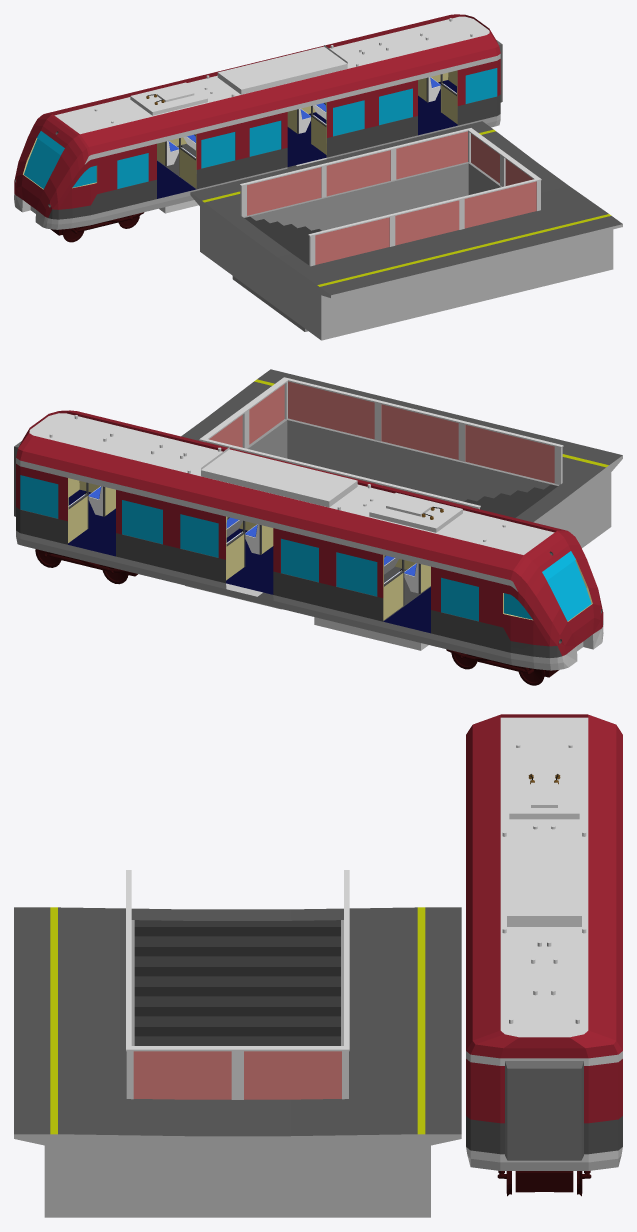
The model's file is platform_double.glb.
3 renders of one model, top to bottom at view 1: azimuth 30°, elevation 25°; view 2: azimuth 150°, elevation 25°; view 3: azimuth 270°, elevation 25°, orthographic. The views are drawn at different scales.
Visible parts, largest first — view 1: Wagon_Cube.001, PlatformForStairs, Cube.002; view 2: Wagon_Cube.001, Cube.002, PlatformForStairs; view 3: PlatformForStairs, Wagon_Cube.001, Cube.002.
Boxes of the visible parts, bbox=[...] form: Wagon_Cube.001: bbox=[14, 14, 502, 242]; PlatformForStairs: bbox=[190, 121, 622, 340]; Cube.002: bbox=[232, 128, 541, 331]; Wagon_Cube.001: bbox=[14, 410, 603, 685]; Cube.002: bbox=[199, 377, 563, 517]; PlatformForStairs: bbox=[181, 369, 622, 547]; PlatformForStairs: bbox=[14, 907, 461, 1217]; Wagon_Cube.001: bbox=[466, 714, 622, 1196]; Cube.002: bbox=[126, 870, 349, 1099].
Bounding box in the file's own units: 16.61 × 4.88 × 11.92.
